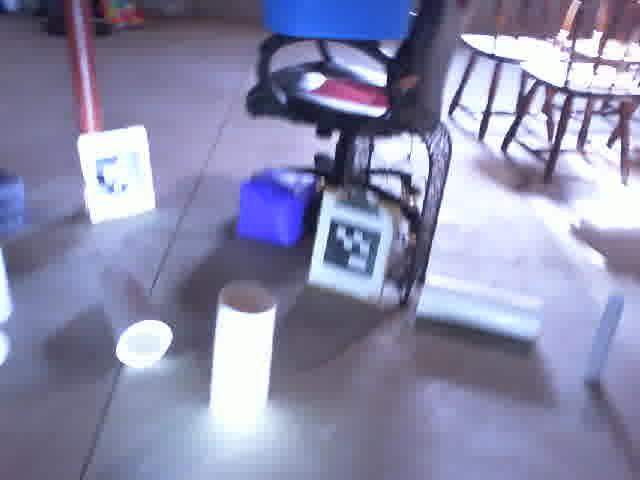coral: (210, 283, 279, 427), (416, 272, 542, 345), (91, 265, 173, 369)
